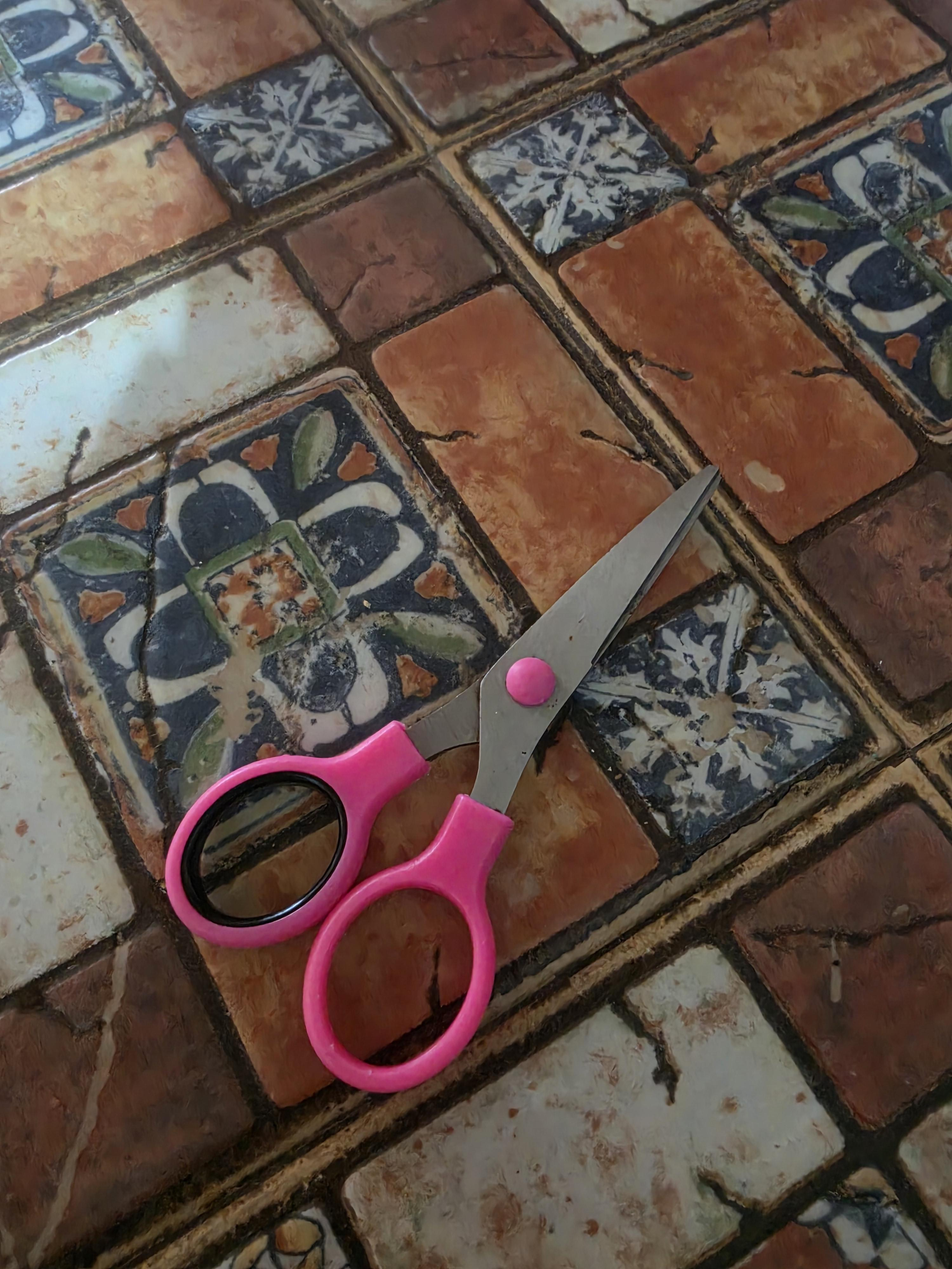scissors: (164, 464, 723, 1095)
